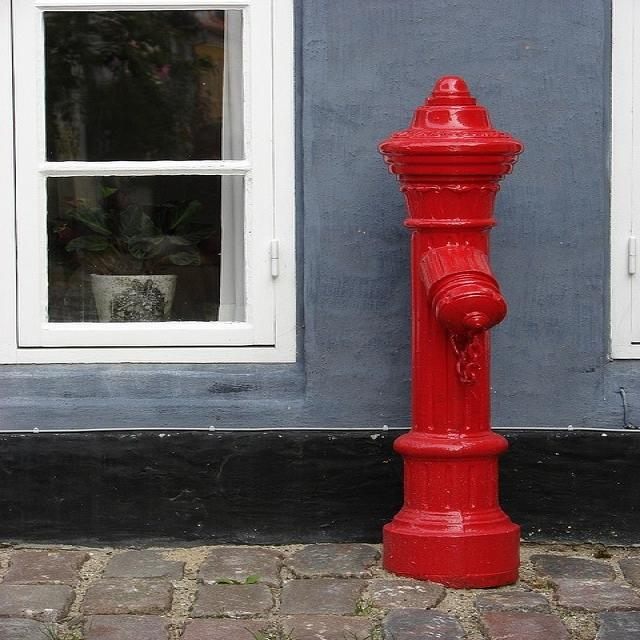fire_hydrant: (304, 70, 606, 626)
